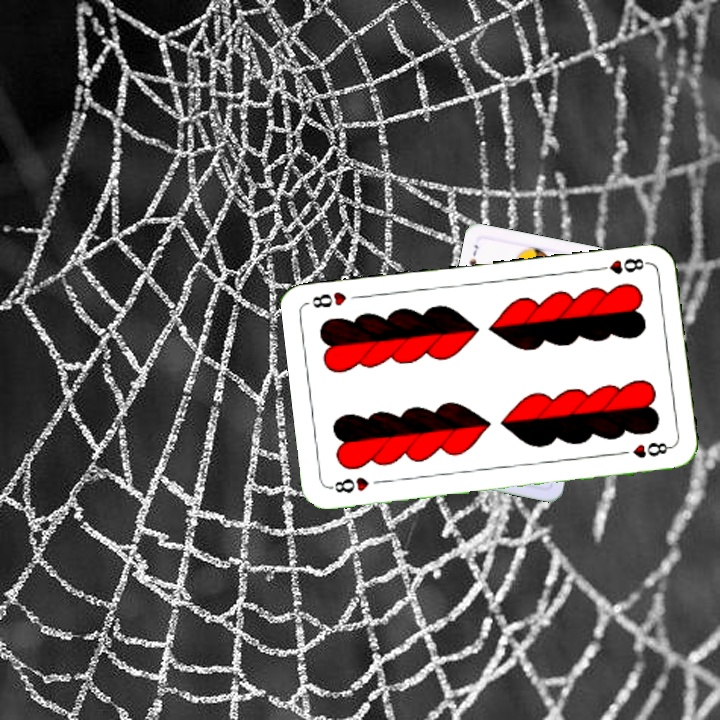H8: (593, 254, 652, 277), (326, 473, 371, 496)
S7: (465, 241, 481, 268)
